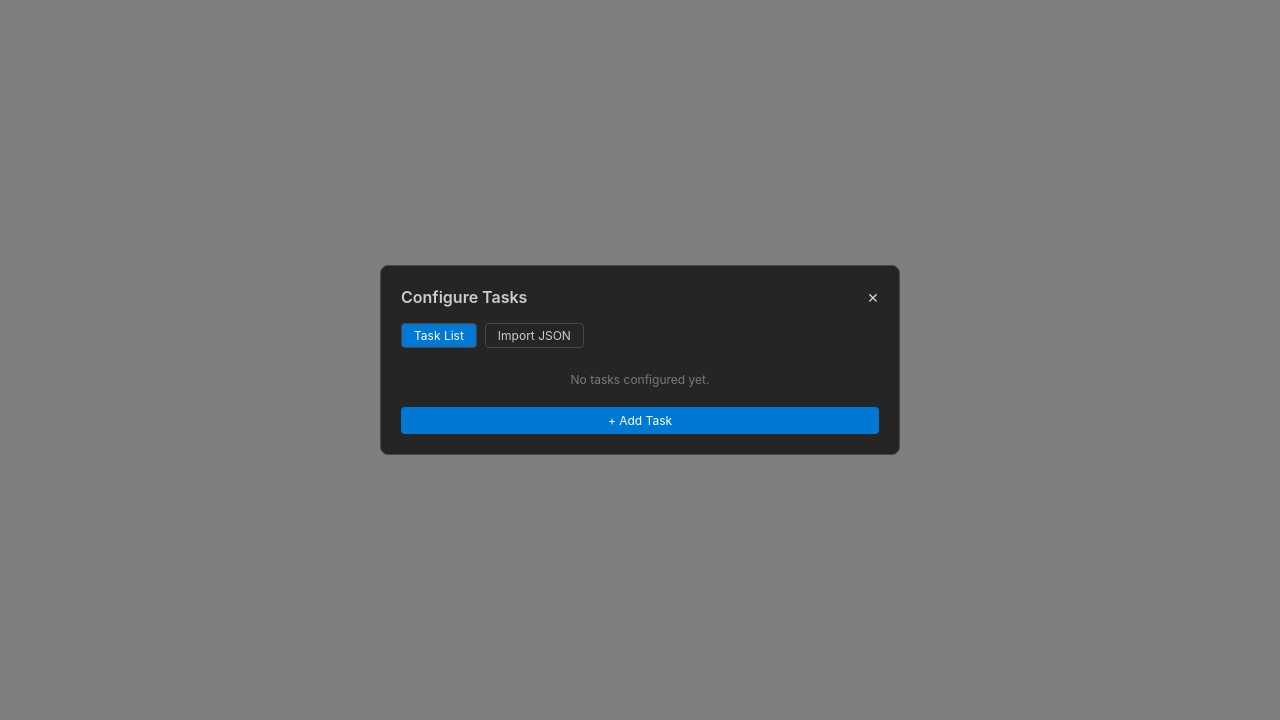
it: ConfigureTasksDialogViewPresenter › shows add task form when add button is clicked
The image size is (1280, 720).
What coordinates should you click on to do the following:
click the button "+ Add Task"
I would click on:
 (640, 420)
Its box is [401, 407, 879, 434].
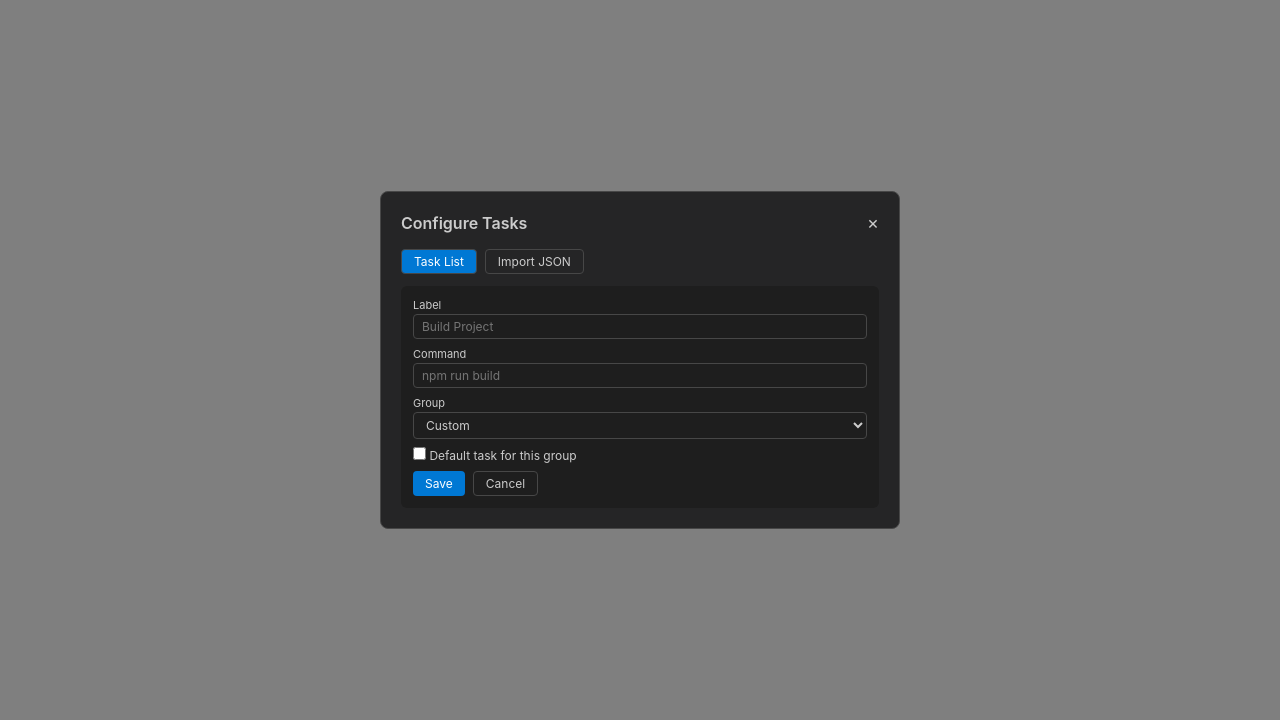
Expected: the button "Save" is shown, [413, 471, 465, 496]
